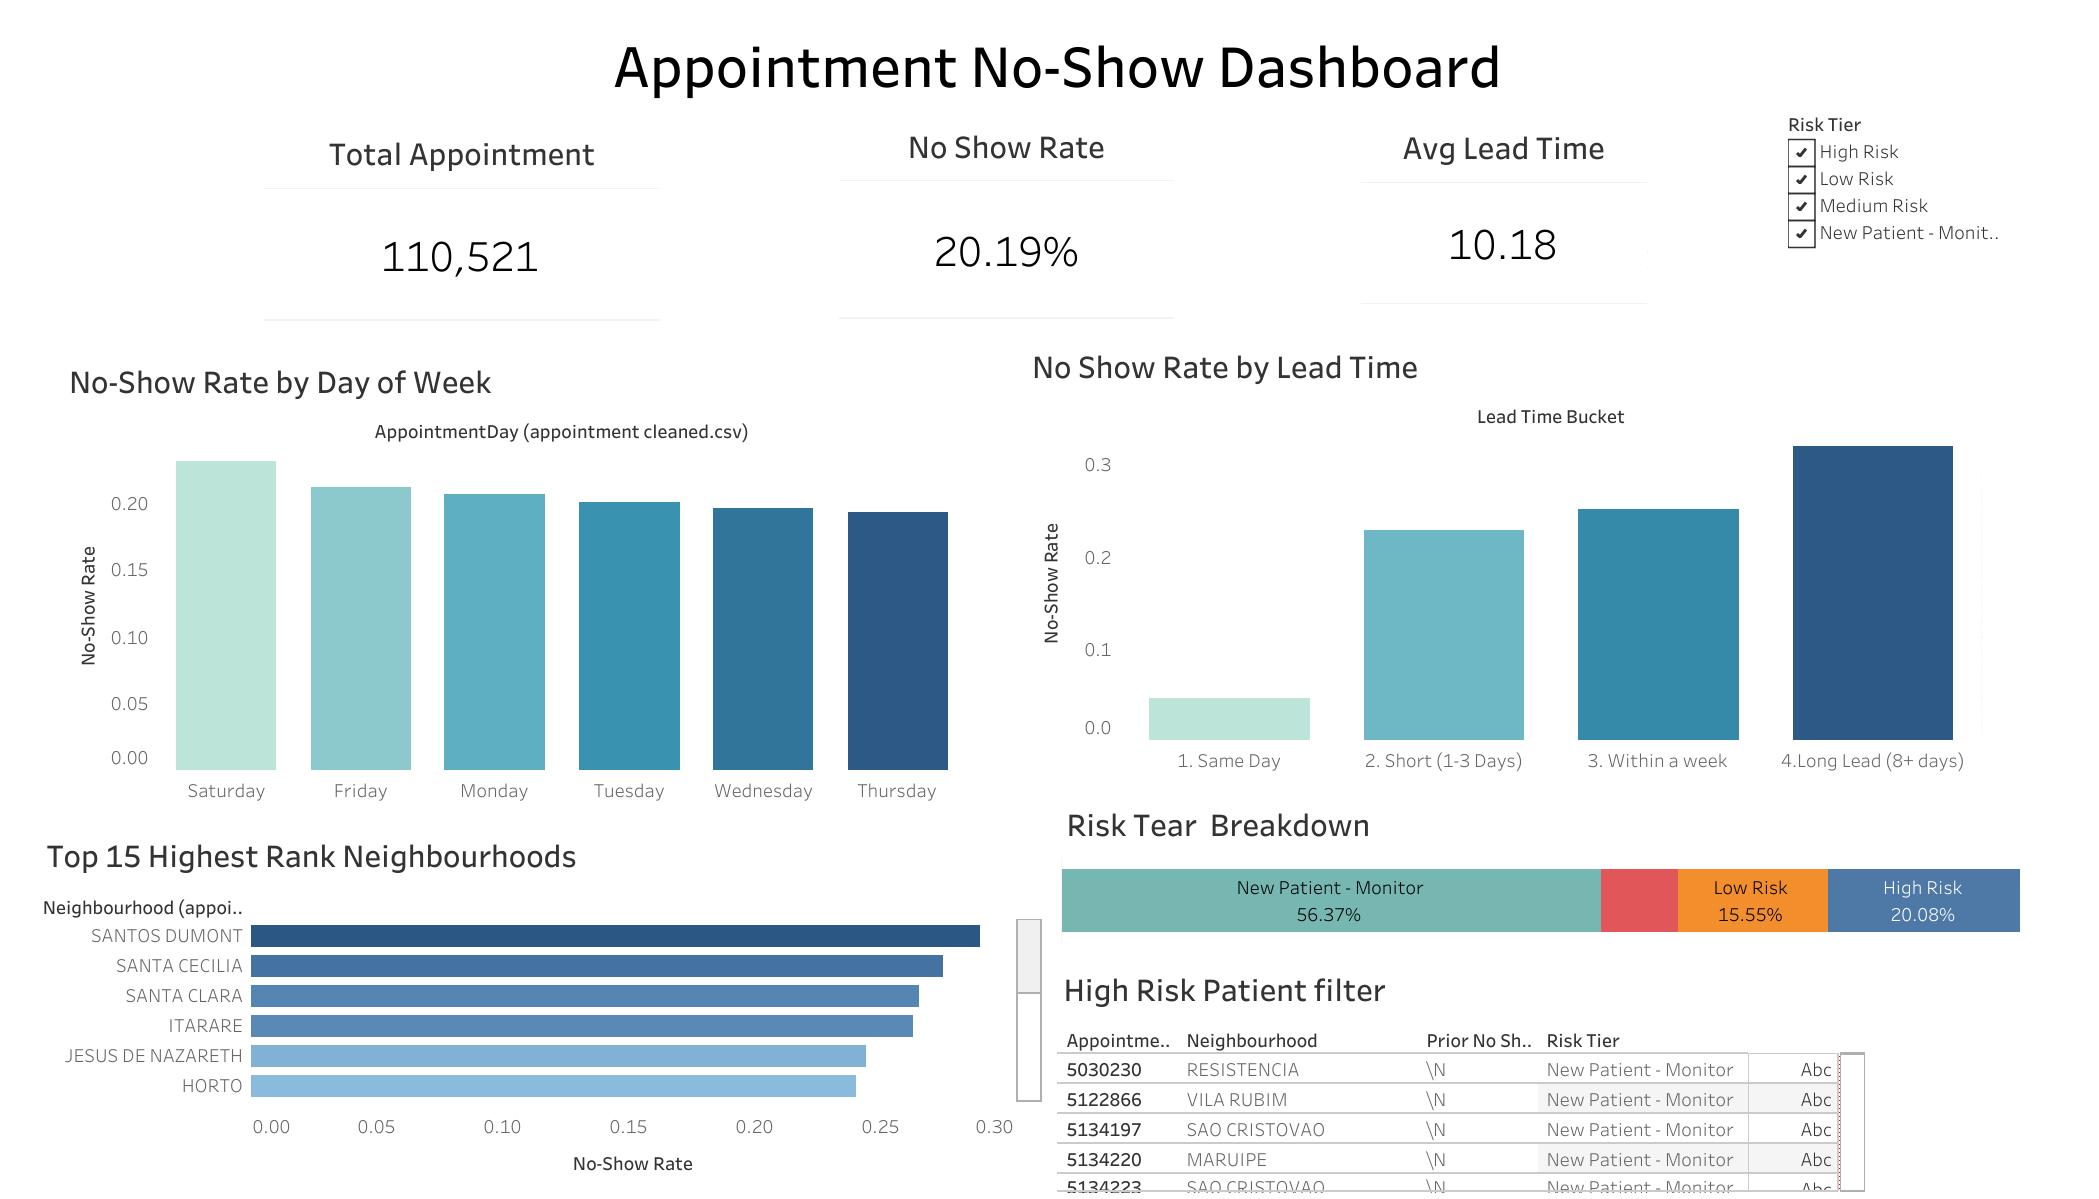

What the dashboard file says about the page in this screenshot:
{"tool":"tableau","page":{"name":"Appointment No-Show Dashboard","canvas":[1000,1000],"units":"permille","ordinal":0},"visuals":[{"type":"text","box":[13.7,9.8,979.9,86.8]},{"type":"filter","title":"High Risk Patient filter","param":"[federated.1jewdgs0smakfj1a5r88v0jeagpg].[none:risk_tier:nk]","box":[851.2,90.5,104,204.2]},{"type":"worksheet","title":"No Show Rate","mark":"Automatic","box":[399.6,96.6,159.8,169.9]},{"type":"worksheet","title":"Avg Lead Time","mark":"Automatic","box":[647.8,97.8,136.4,156.5]},{"type":"worksheet","title":"Total Appointment","mark":"Automatic","box":[126.1,102.7,188.4,166.3]},{"type":"worksheet","title":"No Show Rate by Lead Time","mark":"Automatic","rows":["Calculation_585749469460586496"],"cols":["Calculation_585749469463506945"],"box":[488.6,279.9,454.2,386.3]},{"type":"worksheet","title":"No-Show Rate by Day of Week","mark":"Bar","rows":["Calculation_585749469460586496"],"cols":["AppointmentDay (appointment_cleaned.csv)"],"box":[29.9,292.2,429.5,376.5]},{"type":"worksheet","title":"Risk Tear  Breakdown ","mark":"Automatic","cols":["appointment_risk.csv_60C9AB1D2D814DFDBEB5D53115D1AC76"],"box":[504.9,661.4,479.5,146.7]},{"type":"worksheet","title":"Top 15 Highest Rank Neighbourhoods","mark":"Automatic","rows":["Neighbourhood (appointment_cleaned.csv)"],"cols":["Calculation_585749469460586496"],"box":[19.5,687,476.9,302]},{"type":"worksheet","title":"High Risk Patient filter","mark":"Automatic","rows":["AppointmentID","Neighbourhood","prior_no_show_rate","risk_tier"],"box":[503.6,798.3,471.1,195.6]}]}

Visuals, with their boxes on the dashboard's canvas, which has no fixed pixel size, in thousandths of its width and height (x1, y1, x2, y2). These are canvas units, not pixel positions in the 2099x1199 screenshot, which may show the page scaled, cropped or inside an application window:
text: crop(14, 10, 994, 97)
"High Risk Patient filter" filter: crop(851, 90, 955, 295)
"No Show Rate" worksheet: crop(400, 97, 559, 266)
"Avg Lead Time" worksheet: crop(648, 98, 784, 254)
"Total Appointment" worksheet: crop(126, 103, 314, 269)
"No Show Rate by Lead Time" worksheet: crop(489, 280, 943, 666)
"No-Show Rate by Day of Week" worksheet (Bar marks): crop(30, 292, 459, 669)
"Risk Tear  Breakdown " worksheet: crop(505, 661, 984, 808)
"Top 15 Highest Rank Neighbourhoods" worksheet: crop(20, 687, 496, 989)
"High Risk Patient filter" worksheet: crop(504, 798, 975, 994)
